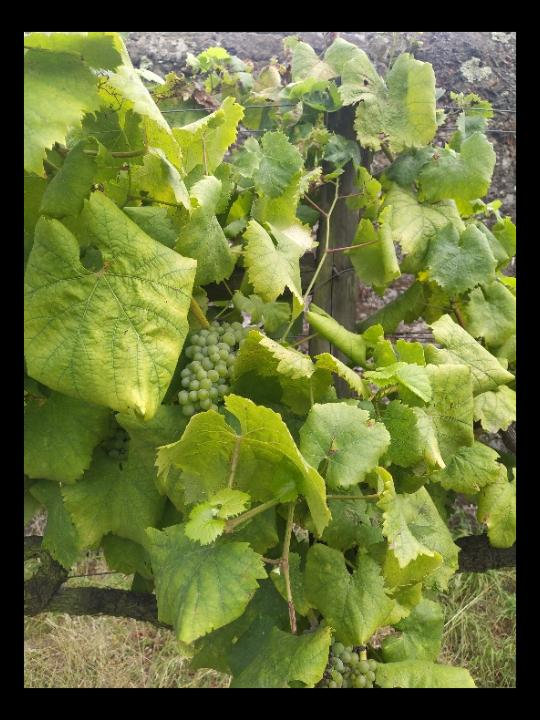grape: (176, 321, 244, 417)
